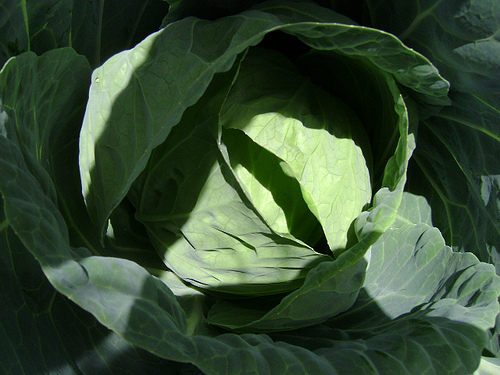cabbage: (1, 0, 499, 374)
